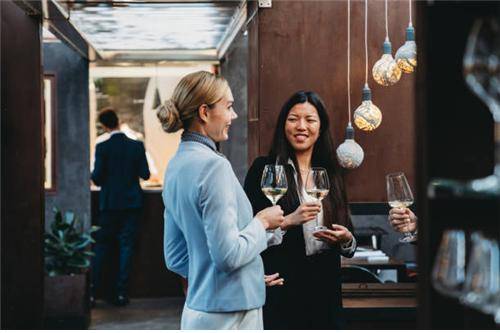alcohol: (384, 173, 417, 241), (259, 164, 289, 235), (304, 169, 335, 233)
